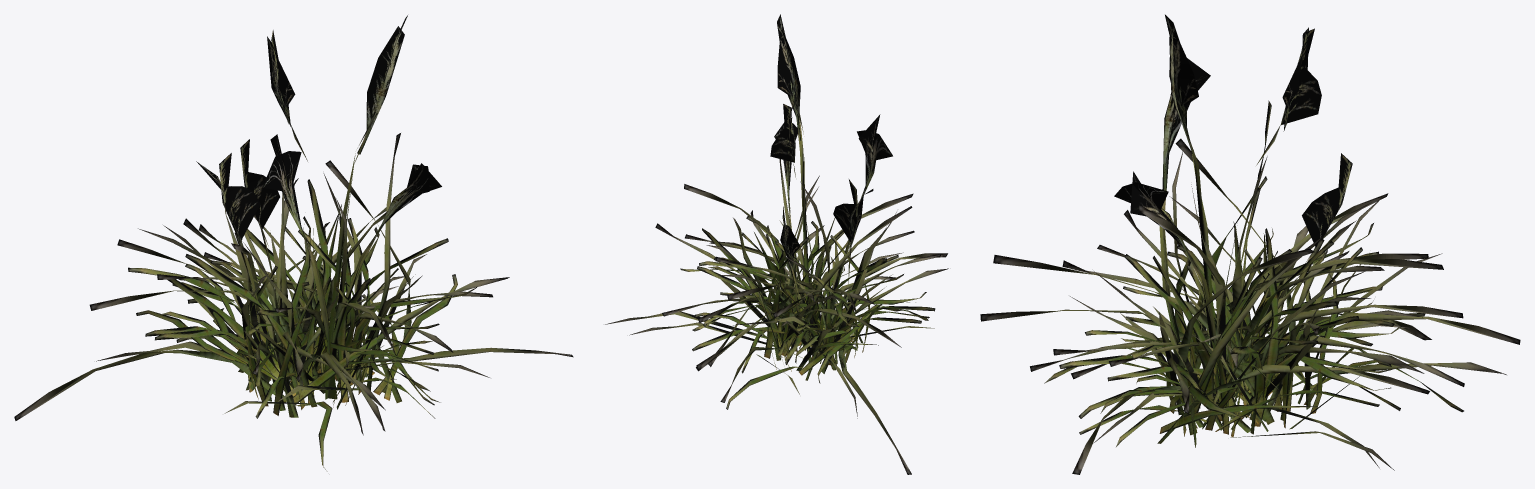
Rendered from grass_a.glb.
3 renders of one model, left to right at view 1: azimuth 30°, elevation 25°; view 2: azimuth 150°, elevation 25°; view 3: azimuth 270°, elevation 25°, orthographic. The views are drawn at different scales.
Parts seen in each view (by area): view 1: grass_medium_01_mid_a_LOD0; view 2: grass_medium_01_mid_a_LOD0; view 3: grass_medium_01_mid_a_LOD0.
Boxes of the visible parts, bbox=[...] form: grass_medium_01_mid_a_LOD0: bbox=[14, 15, 573, 471]; grass_medium_01_mid_a_LOD0: bbox=[605, 14, 948, 474]; grass_medium_01_mid_a_LOD0: bbox=[980, 14, 1520, 474].
Bounding box in the file's own units: 0.2177 × 0.2174 × 0.2214.
Materials: 1 (1 with a texture image).
